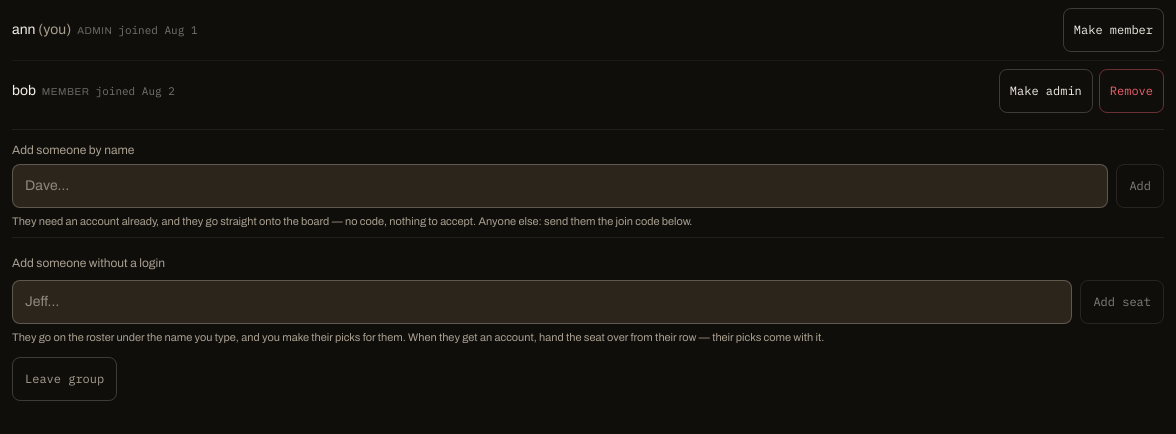
it: RosterAdmin › takes a typed name when no row was picked, and shows the refusal
Type "cal" into the field labelled "Add someone by name".
click(560, 186); type("cal")  # box x1=12 y1=164 x2=1108 y2=208
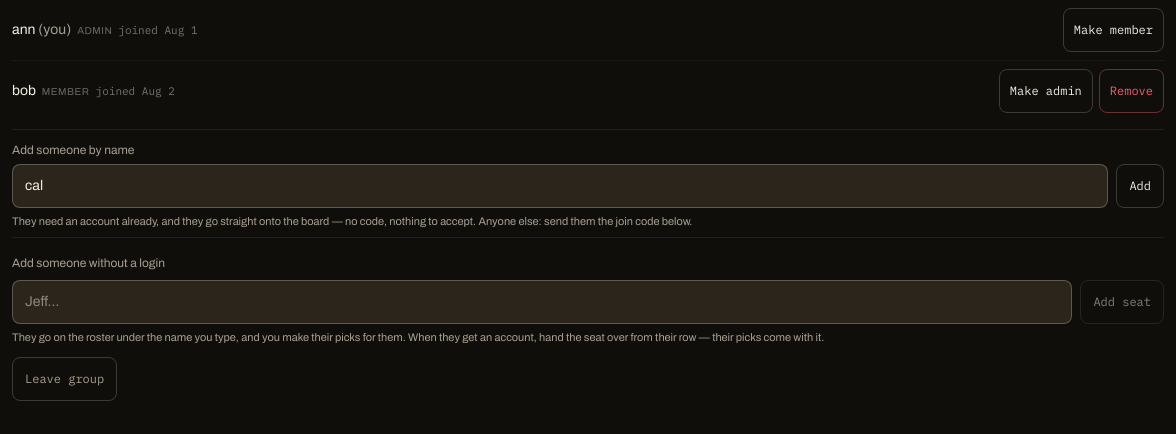
Click the button "Add".
click(1140, 186)  # box x1=1116 y1=164 x2=1164 y2=208
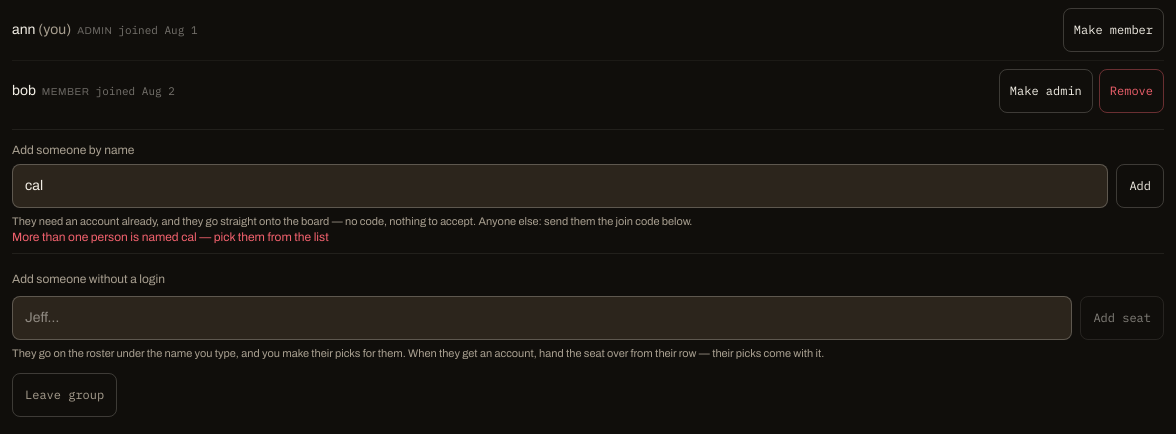
expect the text "More than one person is named cal — pick them from the list" is shown: met, box x1=12 y1=230 x2=329 y2=244
